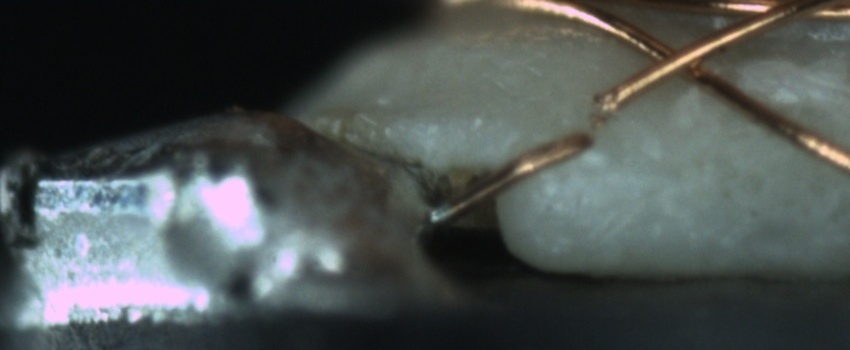CL: (632, 30, 724, 91)
